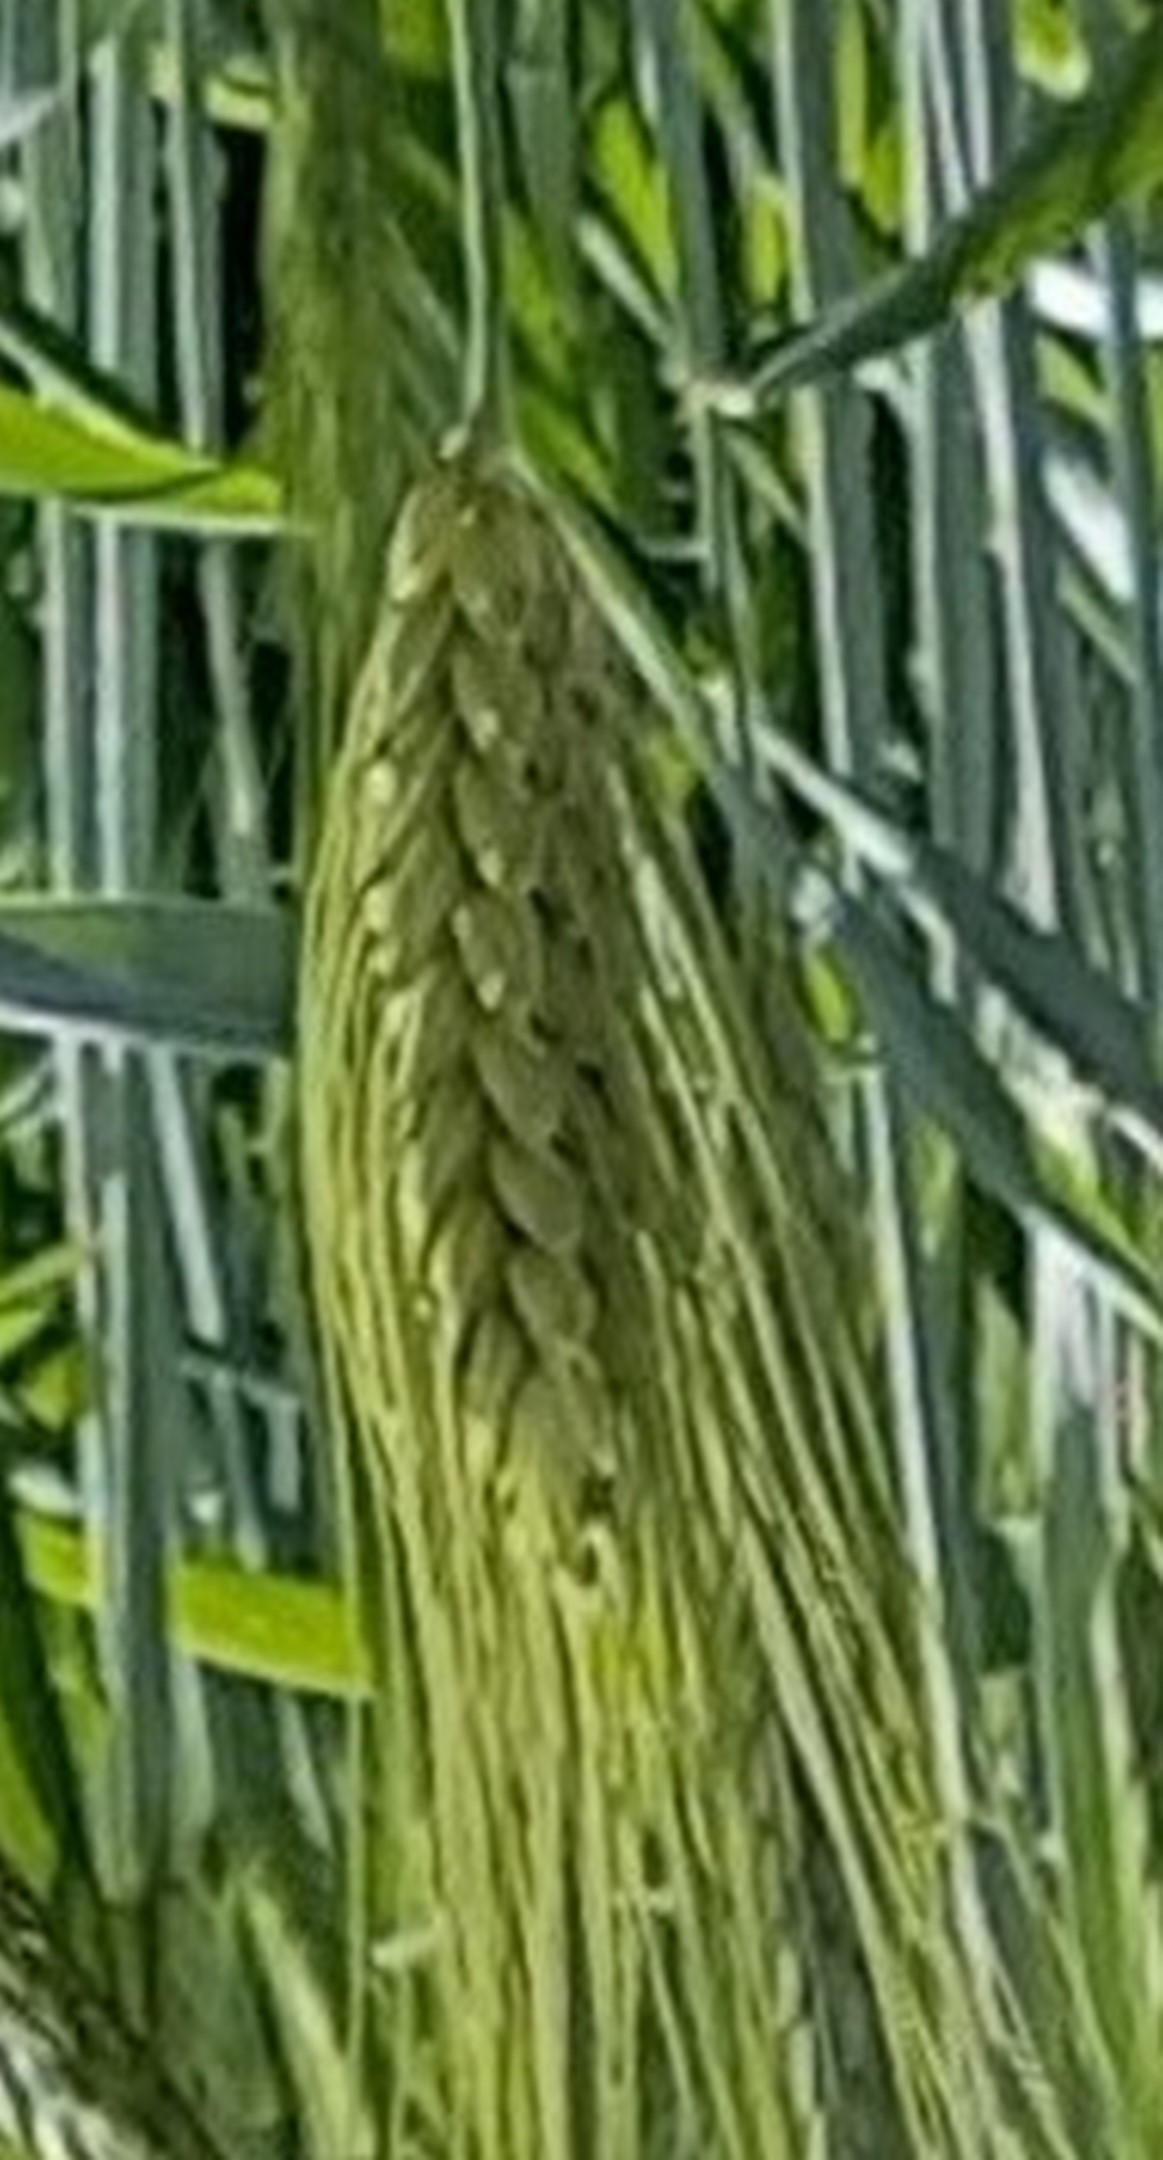Healthy Wheat: (304, 447, 740, 1577)
